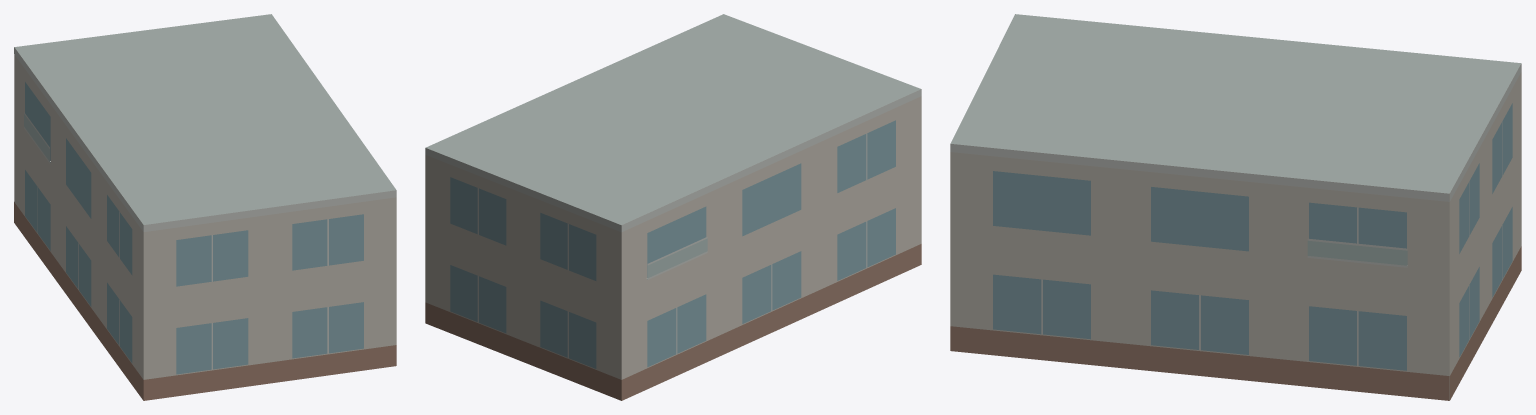
The model's file is survey-upis-32721892.glb.
3 views of the same model, side by side, from view 1: azimuth 30°, elevation 25°; view 2: azimuth 150°, elevation 25°; view 3: azimuth 270°, elevation 25° (orthographic). The views are drawn at different scales.
Parts seen in each view (by area): view 1: survey-upis-32721892.tmp; view 2: survey-upis-32721892.tmp; view 3: survey-upis-32721892.tmp.
Boxes of the visible parts, x1,y1,x2,y2 form: survey-upis-32721892.tmp: [14, 14, 396, 400]; survey-upis-32721892.tmp: [425, 14, 921, 400]; survey-upis-32721892.tmp: [950, 14, 1521, 400].
Bounding box in the file's own units: 11.36 × 6.1 × 15.25.
